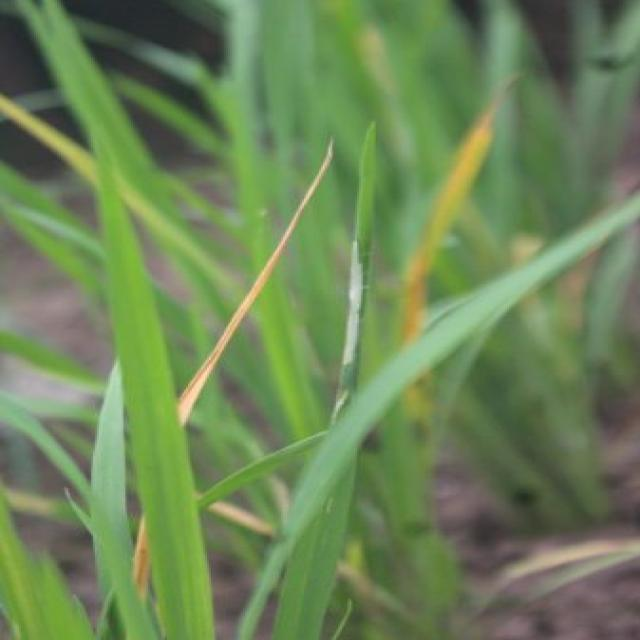Rice Tungro: (183, 133, 348, 402), (393, 118, 527, 355)
